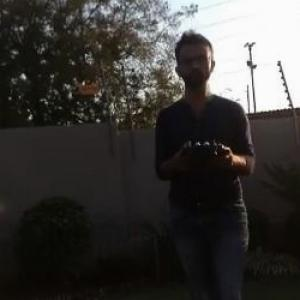follow: (149, 24, 260, 299)
